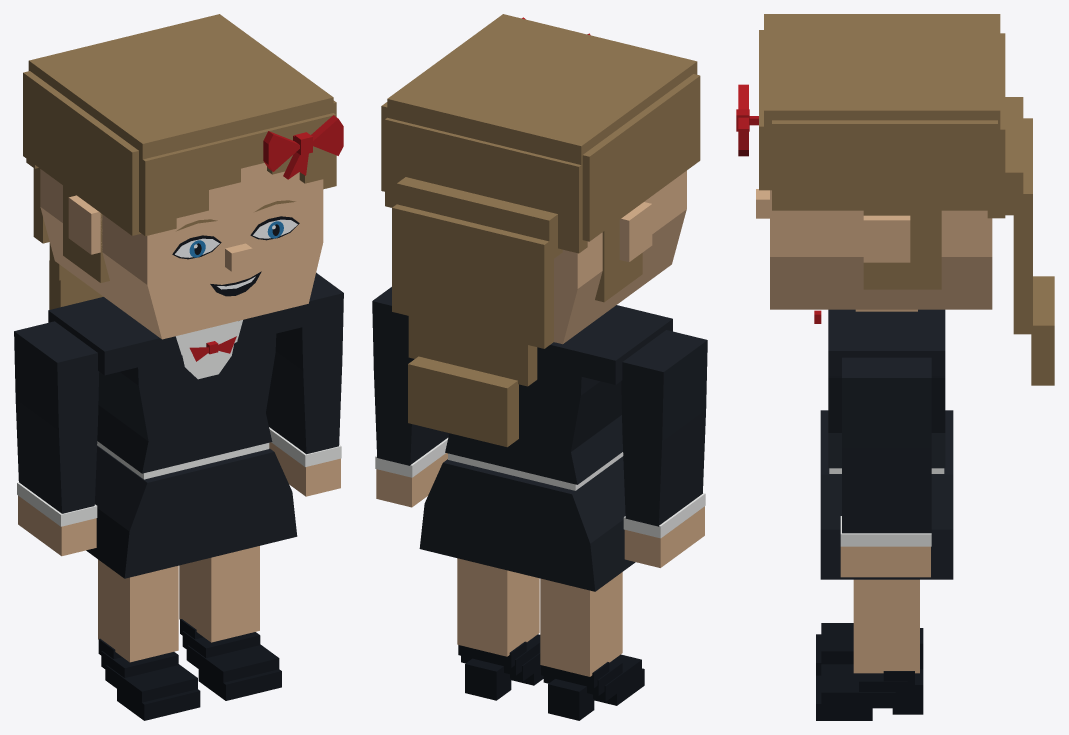
Rendered from female_base.glb.
3 renders of one model, left to right at view 1: azimuth 30°, elevation 25°; view 2: azimuth 150°, elevation 25°; view 3: azimuth 270°, elevation 25°, orthographic. The views are drawn at different scales.
Visible parts, largest first — view 1: char_hair_visual, char_torso_visual, char_head_visual, char_arm_negx_visual, char_leg_negx_visual, char_leg_posx_visual, char_arm_posx_visual, char_bow_visual, char_hand_negx_visual, char_hand_posx_visual, char_eye_negx_visual, char_eye_posx_visual (+1 smaller); view 2: char_hair_visual, char_torso_visual, char_arm_negx_visual, char_leg_negx_visual, char_leg_posx_visual, char_head_visual, char_arm_posx_visual, char_hand_negx_visual, char_hand_posx_visual; view 3: char_hair_visual, char_head_visual, char_arm_posx_visual, char_torso_visual, char_leg_posx_visual, char_hand_posx_visual, char_leg_negx_visual, char_bow_visual.
Boxes of the visible parts, x1,y1,x2,y2 form: char_hair_visual: (23, 14, 336, 309); char_torso_visual: (48, 297, 309, 578); char_head_visual: (40, 163, 323, 339); char_arm_negx_visual: (14, 321, 99, 526); char_leg_negx_visual: (98, 559, 200, 720); char_leg_posx_visual: (179, 546, 281, 700); char_arm_posx_visual: (266, 272, 343, 466); char_bow_visual: (263, 115, 343, 179); char_hand_negx_visual: (18, 495, 96, 556); char_hand_posx_visual: (269, 442, 340, 496); char_eye_negx_visual: (172, 235, 221, 259); char_eye_posx_visual: (250, 216, 299, 240); char_hair_visual: (381, 14, 700, 447); char_torso_visual: (407, 305, 672, 591); char_arm_negx_visual: (621, 330, 707, 538); char_leg_negx_visual: (540, 572, 644, 720); char_leg_posx_visual: (457, 558, 543, 700); char_head_visual: (554, 170, 686, 344); char_arm_posx_visual: (372, 287, 449, 477); char_hand_negx_visual: (624, 506, 704, 567); char_hand_posx_visual: (376, 453, 447, 507); char_hair_visual: (759, 14, 1054, 385); char_head_visual: (756, 189, 992, 311); char_arm_posx_visual: (840, 357, 931, 546); char_torso_visual: (814, 309, 953, 579); char_leg_posx_visual: (816, 579, 923, 720); char_hand_posx_visual: (840, 546, 930, 577); char_leg_negx_visual: (816, 623, 923, 675); char_bow_visual: (736, 84, 758, 156).
Bounding box in the file's own units: 0.88 × 1.77 × 0.816.
